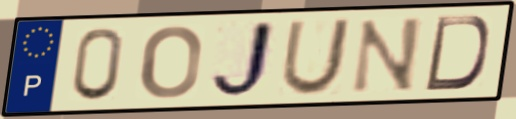0: (71, 26, 127, 103)
D: (421, 14, 492, 93)
J: (206, 18, 279, 102)
N: (347, 15, 426, 96)
O: (138, 23, 204, 102)
U: (277, 16, 355, 97)
